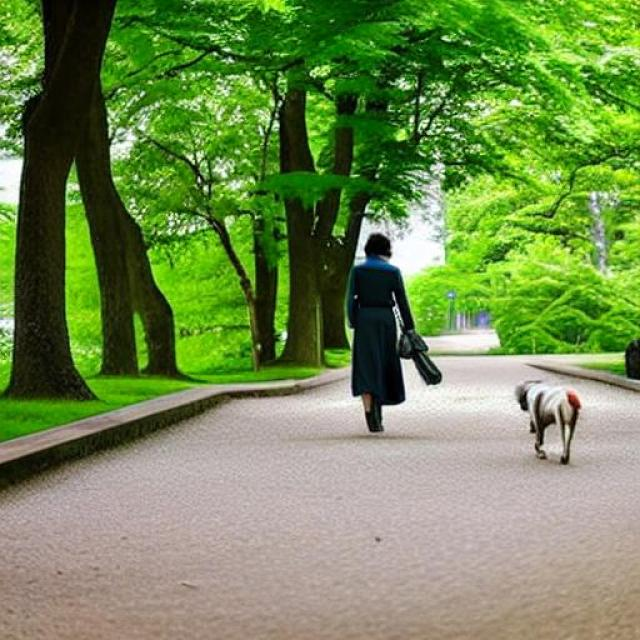Unleashed_Dog: (359, 312, 582, 464)
